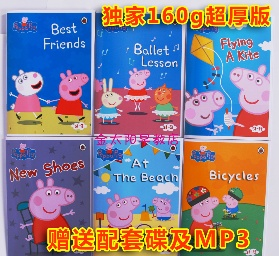Peppa: (21, 178, 76, 242), (226, 64, 267, 135), (52, 69, 88, 124), (122, 67, 154, 112), (187, 185, 219, 229), (105, 193, 140, 227)
